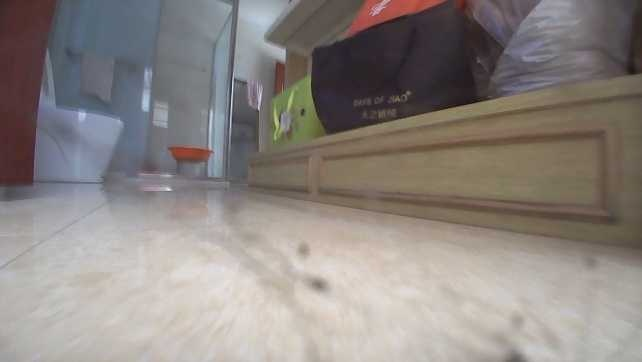toilet: (35, 49, 126, 186)
